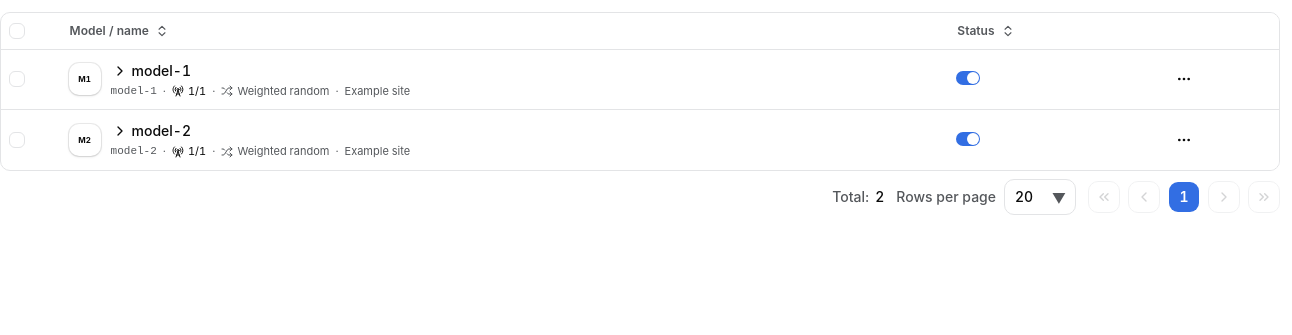
route inline details › reports a disabled channel once, without treating it as cooling
Click the button "model-1": (151,70) [111,60,192,82]
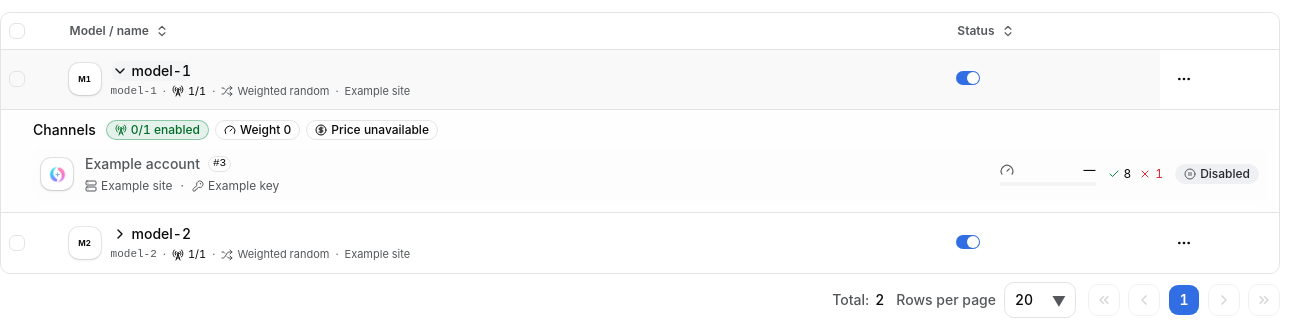
Expected: the element with test id "channel-status" does not show "Cooling", [1175,164,1259,184]
Result: the text "Example account" is shown at [85,154,200,174]
Result: the element with test id "channel-status" reads "Disabled" at [1200,166,1250,181]
